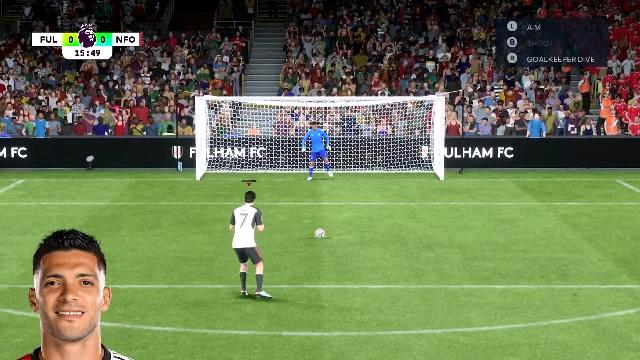bottom-left: (199, 140, 287, 180)
bottom-right: (362, 141, 440, 181)
center-down: (288, 142, 362, 180)
center-up: (288, 100, 362, 140)
circle: (314, 236, 328, 238)
football: (314, 228, 326, 238)
goalkeeper: (305, 121, 337, 182)
player: (214, 187, 266, 299)
top-left: (199, 100, 287, 139)
top-right: (362, 101, 440, 141)
